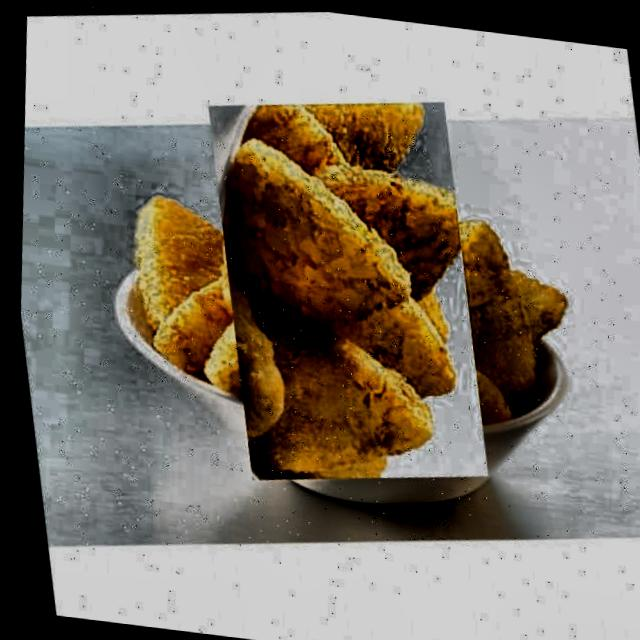Food: (146, 95, 540, 481)
